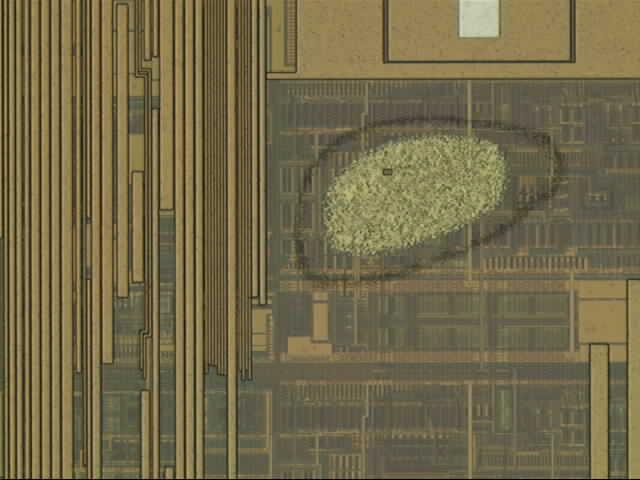BLOCK ETCH: (284, 112, 568, 297)
